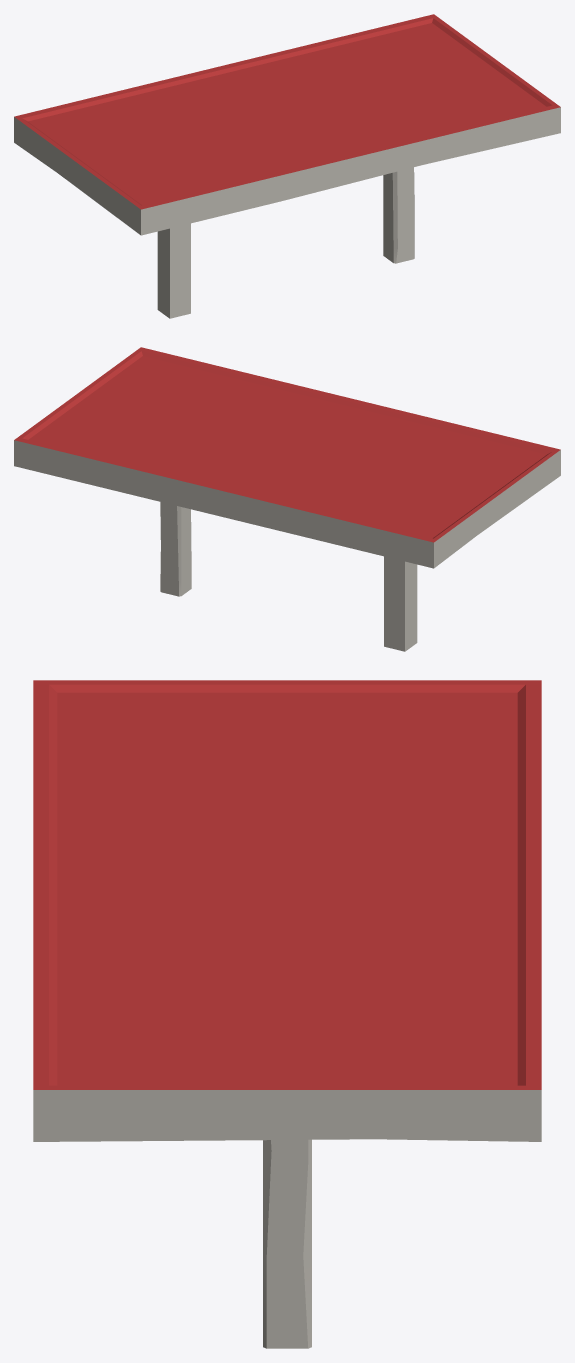
File: syn-cover.glb
The picture shows the model from 3 angles, top to bottom: view 1: azimuth 30°, elevation 25°; view 2: azimuth 150°, elevation 25°; view 3: azimuth 270°, elevation 25°; orthographic projection. The views are drawn at different scales.
Parts seen in each view (by area): view 1: SM_Prop_Gaspump_Cover_01; view 2: SM_Prop_Gaspump_Cover_01; view 3: SM_Prop_Gaspump_Cover_01.
Part boxes in pixels (x1,y1,x2,y2): SM_Prop_Gaspump_Cover_01: (14,14,560,318); SM_Prop_Gaspump_Cover_01: (14,347,560,651); SM_Prop_Gaspump_Cover_01: (33,680,541,1348).
Size of the model in its own units: 13.38 by 5.24 by 7.01.
